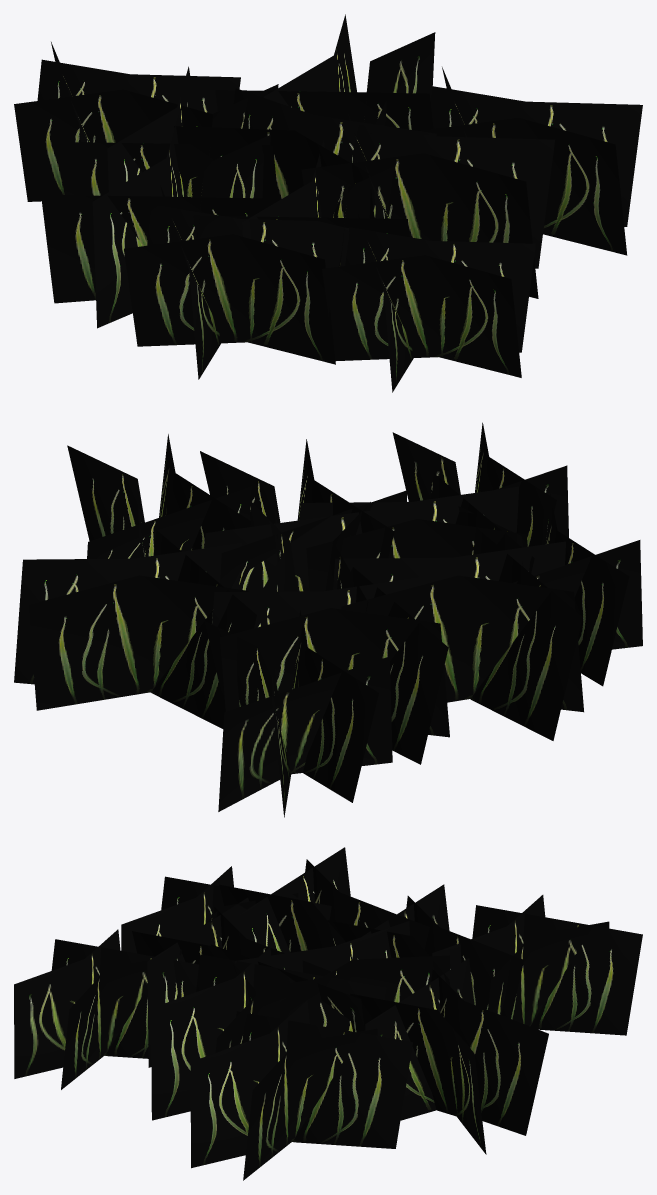
File: GrassShort.fbx
3 renders of one model, top to bottom at view 1: azimuth 30°, elevation 25°; view 2: azimuth 150°, elevation 25°; view 3: azimuth 270°, elevation 25°, orthographic. The views are drawn at different scales.
Parts seen in each view (by area): view 1: GrassShort_LOD0; view 2: GrassShort_LOD0; view 3: GrassShort_LOD0.
Boxes of the visible parts, left/top/right/bottom form: GrassShort_LOD0: left=14, top=14, right=642, bottom=392; GrassShort_LOD0: left=14, top=422, right=642, bottom=817; GrassShort_LOD0: left=14, top=847, right=642, bottom=1180.
Bounding box in the file's own units: 108 × 23.95 × 121.
